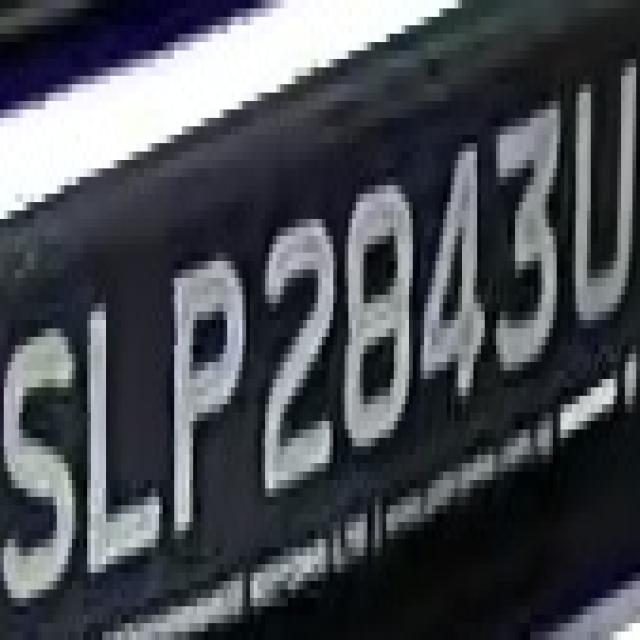2: (250, 194, 345, 505)
3: (489, 76, 564, 379)
4: (409, 118, 492, 455)
8: (344, 160, 416, 472)
L: (83, 269, 163, 606)
P: (166, 219, 258, 564)
S: (0, 278, 80, 615)
U: (568, 59, 640, 354)
